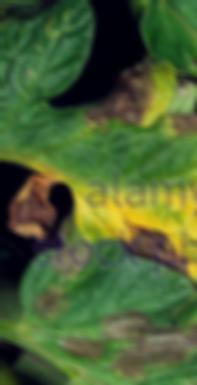Tomato leaf late blight: (0, 8, 197, 292), (0, 237, 197, 385)
